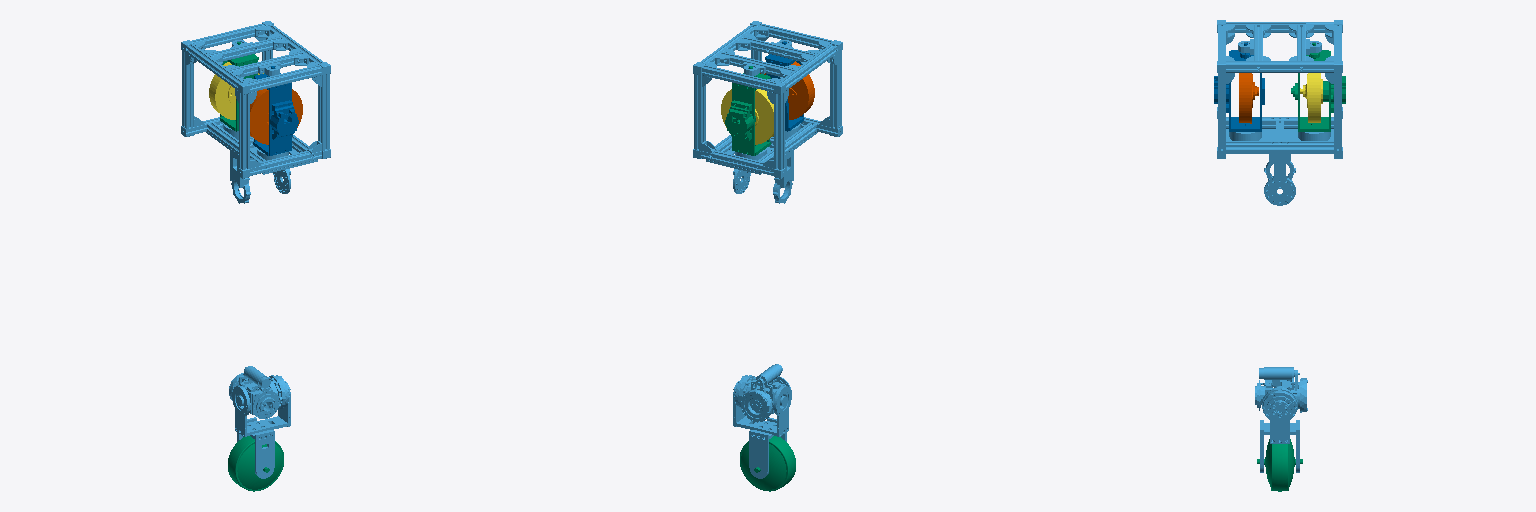
--- What the picture shows (computed from the rendered views, not written in the file) ---
Views: 3 orthographic renders of the robot side by side, from view 1: azimuth 30°, elevation 25°; view 2: azimuth 150°, elevation 25°; view 3: azimuth 270°, elevation 25°.
Model wheeled_inverted_pendulum with 11 links and 10 joints (5 revolute, 3 continuous, 2 fixed), rooted at cmg, posed every joint at zero.
Links seen in each view (by area): view 1: frame, ankle_link, Right_gimbal, wheel_link, Right_flywheel, Left_flywheel; view 2: frame, ankle_link, Left_gimbal, wheel_link, Left_flywheel, Right_flywheel; view 3: frame, ankle_link, wheel_link, Left_gimbal, Right_gimbal, Left_flywheel, Right_flywheel.
Boxes of the visible links, bbox=[...] form: frame: bbox=[181, 21, 330, 203]; ankle_link: bbox=[229, 366, 290, 478]; Right_gimbal: bbox=[253, 66, 298, 155]; wheel_link: bbox=[228, 436, 283, 491]; Right_flywheel: bbox=[250, 89, 302, 144]; Left_flywheel: bbox=[209, 62, 263, 119]; frame: bbox=[693, 21, 842, 203]; ankle_link: bbox=[733, 364, 791, 478]; Left_gimbal: bbox=[725, 66, 770, 155]; wheel_link: bbox=[740, 436, 795, 491]; Left_flywheel: bbox=[721, 89, 773, 144]; Right_flywheel: bbox=[760, 61, 814, 119]; frame: bbox=[1217, 20, 1342, 205]; ankle_link: bbox=[1255, 367, 1307, 472]; wheel_link: bbox=[1257, 439, 1302, 491]; Left_gimbal: bbox=[1291, 43, 1345, 131]; Right_gimbal: bbox=[1214, 43, 1264, 131]; Left_flywheel: bbox=[1300, 73, 1322, 122]; Right_flywheel: bbox=[1239, 73, 1258, 123].
Size in the robot's own frame: 0.2442 by 0.3059 by 1.15 metres.
Meshes: 10 distinct files referenced, 7 mesh visuals loaded (7 binary STL); not drawn: 3 (reference not matched to a file when rendering).

The robot description file, URDF, robot "wheeled_inverted_pendulum":
<?xml version="1.0"?>

<robot name="wheeled_inverted_pendulum">

        <link name="cmg">		    
		</link>

        <joint name="cmg_joint" type="fixed">
		    <origin xyz="0 0 1.022142" rpy="0.0 0.0 0.0" /> 
		    <parent link="cmg"/>
		    <child link="frame"/>
		</joint> 

        <link name="frame">
            <visual>
                <origin xyz="0 0 0" rpy="1.5708 0.0 0"/> <!--xyz="0.0 0.0 0.0" rpy="0 0.0 0" -->
                <geometry>
                    <mesh filename="package://cmg_robot_description/meshes/cmg_link.STL" scale="0.001 0.001 0.001"/>         
                </geometry>
                <material name=""/>
            </visual>

            <collision>
                <origin xyz="0 0 0" rpy="1.5708 0.0 0.0"/>
                <geometry>
                    <mesh filename="package://cmg_robot_description/meshes/cmg_link.STL" scale="0.001 0.001 0.001"/>
                </geometry>
            </collision>

            <inertial>
                <mass value="2.84" /> <!--3.037-->
                <origin xyz="0 0 -0.05" rpy="1.5708 0.0 0"/>
                <inertia ixx="0.069831822" ixy="0.000002709"  ixz="0.001167158"  iyy="0.062838135"  iyz="0.000012214"  izz="0.037865996" />
            </inertial>
        </link>

<!-- ######################################################################################### -->

        <joint name="Left_gimbal_joint" type="revolute">
            <!-- <origin xyz="-0.000001 0.08 -0.0015" rpy="0 0 1.57"/> -->
            <origin xyz="0 0.08 0" rpy="0 0 0"/>
            <axis xyz="0 0 1" />
            <parent link="frame"/>
            <child link="Left_gimbal"/>            
            <limit effort="100" velocity="100" upper="1.57" lower="-1.57"/>
            <!-- <calibration falling="1.0"/> -->
            <joint_properties damping="0.0" friction="0.0"/>
            <mimic joint="Right_gimbal_joint" multiplier="-1.0"/>

        </joint>

<!-- ######################################################################################### -->

        <link name="Left_gimbal">
            <visual>
                <origin xyz="0.0 0.0 0.0" rpy="0 0.0 0"/> 
                <geometry>
                    <mesh filename="package://cmg_robot_description/meshes/left_gimbal_link.STL" scale="0.001 0.001 0.001"/>         
                </geometry>
                <material name=""/>
            </visual>
            <collision>
                <origin xyz="0 0 0" rpy="0 0.0 0.0"/>
                <geometry>
                    <mesh filename="package://cmg_robot_description/meshes/left_gimbal_link.STL" scale="0.001 0.001 0.001"/>        
                </geometry>
            </collision>
            <inertial>
                <mass value="1" /><!-- 1.095 -->
                <origin xyz="0 0 0" />
                <inertia ixx="0.003773117" ixy="0" ixz="0" iyy="0.003989672" iyz="0" izz="0.00061837"/>
            </inertial>
        </link>

<!-- ######################################################################################### -->

         <joint name="Left_flywheel_joint" type="continuous">
            <origin xyz="0 0 0" rpy="0 0 0"/>
            <axis xyz="0 1 0" />
            <parent link="Left_gimbal"/>
            <child link="Left_flywheel"/>
            <limit effort="100" velocity="1000"/>
            <joint_properties damping="0.0" friction="0.0"/>
            <mimic joint="Right_gimbal_joint" multiplier="-1.0"/>
        </joint>

<!-- ######################################################################################### -->

        <link name="Left_flywheel">
            <visual>
                <origin xyz="0 0 0" rpy="0 0 0" />
                <geometry>
                    <mesh filename="package://cmg_robot_description/meshes/left_flywheel_link.STL" scale="0.001 0.001 0.001" />
                </geometry>
                <material name=""/>
            </visual>

            <collision>
                <geometry>
                    <mesh filename="package://cmg_robot_description/meshes/left_flywheel_link.STL" scale="0.001 0.001 0.001" />
                </geometry>
            </collision>

            <inertial>
                <mass value="4" />
                <origin xyz="0 0 0" />
                <inertia ixx="0.005950" ixy="0" ixz="0" iyy="0.011299999" iyz="0" izz="0.005950"/>
            </inertial>
        </link>

<!-- ######################################################################################### -->

        <joint name="Right_gimbal_joint" type="revolute">            
            <origin xyz="0 -0.08 0" rpy="0 0 0"/>
            <axis xyz="0 0 1" />
            <parent link="frame"/>
            <child link="Right_gimbal"/>            
            <limit effort="100" velocity="100" upper="1.57" lower="-1.57"/>
            <joint_properties damping="0.0" friction="0"/>
        </joint>

<!-- ######################################################################################### -->

        <link name="Right_gimbal">
            <visual>
                <origin xyz="0.0 0.0 0.0" rpy="0 0.0 3.14"/> 
                <geometry>
                    <mesh filename="package://cmg_robot_description/meshes/right_gimbal_link.STL" scale="0.001 0.001 0.001"/>         
                </geometry>
                <material name=""/>
            </visual>
            <collision>
                <origin xyz="0 0 0" rpy="0 0.0 3.14"/>
                <geometry>
                    <mesh filename="package://cmg_robot_description/meshes/right_gimbal_link.STL" scale="0.001 0.001 0.001"/>        
                </geometry>
            </collision>
            <inertial>
                <mass value="1" />
                 <!-- 1.095 -->
                <origin xyz="0 0 0" />
                <inertia ixx="0.003773117" ixy="0" ixz="0" iyy="0.003989672" iyz="0" izz="0.00061837"/>
            </inertial>
        </link>

<!-- ######################################################################################### -->

        <joint name="Right_flywheel_joint" type="continuous">
            <origin xyz="0 0 0" rpy="0 0 0"/>
            <axis xyz="0 1 0" />
            <parent link="Right_gimbal"/>
            <child link="Right_flywheel"/>
            <limit effort="100" velocity="1000"/>
            <joint_properties damping="0.0" friction="0.0"/>
        </joint>

<!-- ######################################################################################### -->

        <link name="Right_flywheel">
            <visual>
                <origin xyz="0 0 0" rpy="3.14 0 0" />
                <geometry>
                    <mesh filename="package://cmg_robot_description/meshes/right_flywheel_link.STL" scale="0.001 0.001 0.001" />
                </geometry>
                <material name=""/>
            </visual>

            <collision>
                <origin xyz="0 0 0" rpy="3.14 0 0" />
                <geometry>
                    <mesh filename="package://cmg_robot_description/meshes/right_flywheel_link.STL" scale="0.001 0.001 0.001" />
                </geometry>
            </collision>

            <inertial>
                <mass value="4" />
                <origin xyz="0 0 0" />
                <inertia ixx="0.005950" ixy="0" ixz="0" iyy="0.011299999" iyz="0" izz="0.005950"/>
            </inertial>
        </link>
        
<!-- ######################################################################################### -->
<!-- -0.220996 -->
        <joint name="hip_roll_joint" type="fixed">
            <origin xyz="0 0 -0.2222" rpy="0 0 0"/>
            <parent link="frame"/>
            <child link="hip_link"/>
            <!-- <axis xyz="1 0 0"/>
            <limit effort="100" velocity="1000" upper="0.785" lower="-0.785"/>
            <joint_properties damping="1.0" friction="1.0"/> -->
        </joint>

        <link name="hip_link">
            <visual>
                <origin xyz="-0.042455 0 0" rpy="3.14 0 0"/> 
                <geometry>
                    <mesh filename="package://cmg_robot_description/meshes/hip_link.STL" scale="0.001 0.001 0.001"/>         
                </geometry>
                <material name=""/>
            </visual>

            <collision>
                <origin xyz="-0.042455 0 0" rpy="3.14 0 0"/>
                <geometry>
                    <!-- <box size = "  0.127 0.168778 0.958442 "/>                     -->
                    <mesh filename="package://cmg_robot_description/meshes/hip_link.STL" scale="0.001 0.001 0.001"/>
                </geometry>
            </collision>

            <inertial>
                <mass value="3.325" /> 
                <origin xyz="0.0 0.0 0.0" rpy="3.14 0.0 0"/>
                <inertia ixx="0.005616834" ixy="0.00038757"  ixz="-0.000670089"  iyy="0.006407443"  iyz="-0.000643705" izz="0.006621237" />
            </inertial>
        </link>

<!-- ######################################################################################### -->

        <joint name="hip_pitch_joint" type="revolute">
		    <!-- <origin xyz="0 -0.0045 -0.451221" rpy="0.0 0.0 0.0" />  -->
		    <origin xyz="0 0 0" rpy="0.0 0 0.0" />
            <!-- -0.8  -->
            <axis xyz="0 1 0"/>
		    <parent link="hip_link"/>
		    <child link="hip_to_knee_link" />
            <limit effort="100" velocity="1000" upper="0" lower="0"/>
            <joint_properties damping="1.0" friction="1.0"/>
		</joint> 

        <link name="hip_to_knee_link">
            <visual>
                <origin xyz="0.0 0.0665 0" rpy="3.14 0 0"/> 
                <geometry>
                    <mesh filename="package://cmg_robot_description/meshes/hip_to_knee_link.STL" scale="0.001 0.001 0.001"/>         
                </geometry>
                <material name=""/>
                    
            </visual>

            <collision>
                <origin xyz="0 0.0665 0.0" rpy="3.14 0 0"/>
                <geometry>
                    <!-- <box size = "  0.127 0.168778 0.958442 "/>                     -->
                    <mesh filename="package://cmg_robot_description/meshes/hip_to_knee_link.STL" scale="0.001 0.001 0.001"/>
                </geometry>
            </collision>

            <inertial>
                <mass value="1.739" /> 
                <origin xyz="0.0 0 -0.14958" rpy="3.14 0.0 0"/>
                <inertia ixx="0.008595913" ixy="0.000104152"  ixz="0.000298503"  iyy="0.007917693"  iyz="-0.000246913" izz="0.002944951" />
            </inertial>
        </link> 
<!-- ######################################################################################### -->

        <joint name="knee_joint" type="revolute">
		    <origin xyz="0 0 -0.28" rpy="0.0 0 0.0" /> 
            <!-- 1.5 -->
            <axis xyz="0 1 0"/>
		    <parent link="hip_to_knee_link"/>
		    <child link="knee_ankle_link" />
            <limit effort="100" velocity="1000" upper="0" lower="0"/>
            <joint_properties damping="1.0" friction="1.0"/>
		</joint> 

        <link name="knee_ankle_link">
            <visual>
                <origin xyz="0.000045 -0.059 0" rpy="3.14 0 0"/> 
                <geometry>
                    <mesh filename="package://cmg_robot_description/meshes/knee_to_ankle_pitch_link.STL" scale="0.001 0.001 0.001"/>         
                </geometry>
                <material name=""/>
                    
            </visual>

            <collision>
                <origin xyz="0.000045 -0.059 0" rpy="3.14 0 0"/>
                <geometry>
                    <!-- <box size = "  0.127 0.168778 0.958442 "/>                     -->
                    <mesh filename="package://cmg_robot_description/meshes/knee_to_ankle_pitch_link.STL" scale="0.001 0.001 0.001"/>
                </geometry>
            </collision>

            <inertial>
                <mass value="1.416" /> 
                <origin xyz="0.0 0 -0.12016" rpy="3.14 0.0 0"/>
                <inertia ixx="0.010192583" ixy="0.000128782"  ixz="0.000780769"  iyy="0.009599672"  iyz="-0.000476197" izz="0.002390603" />
            </inertial>
        </link> 
<!-- ######################################################################################### -->

        <joint name="ankle_pitch_joint" type="revolute">
		    <origin xyz="0 0 -0.279942" rpy="0.0 0.0 0.0" /> 
            <!-- -0.7 -->
            <axis xyz="0 1 0"/>
		    <parent link="knee_ankle_link"/>
		    <child link="ankle_link" />
            <limit effort="100" velocity="1000" upper="0" lower="0"/>
            <joint_properties damping="1.0" friction="1.0"/>
		</joint> 

        <link name="ankle_link">
            <visual>
                <origin xyz="0.0 0.0 0.0" rpy="0 0 0"/> 
                <geometry>
                    <mesh filename="package://cmg_robot_description/meshes/ankle_link.STL" scale="0.001 0.001 0.001"/>         
                </geometry>
                <material name=""/>
                    
            </visual>

            <collision>
                <origin xyz="0 0 0" rpy="0 0 0"/>
                <geometry>
                    <!-- <box size = "  0.127 0.168778 0.958442 "/>                     -->
                    <mesh filename="package://cmg_robot_description/meshes/ankle_link.STL" scale="0.001 0.001 0.001"/>
                </geometry>
            </collision>

            <inertial>
                <mass value="2.786" /> 
                <origin xyz="0.0 0.0 0.227234" rpy="0 0.0 0"/>
                <inertia ixx="0.006981371" ixy="0.000264258"  ixz="0.000196616"  iyy="0.007514491"  iyz="0.000229715" izz="0.005584527" />
            </inertial>
        </link> 


<!-- ######################################################################################### -->

        <joint name="wheel_joint" type="continuous">
		    <!-- <origin xyz="0 -0.0045 -0.451221" rpy="0.0 0.0 0.0" />  -->
		    <origin xyz="0 0 -0.171" rpy="0.0 0.0 0.0" /> 
            <axis xyz="0 1 0"/>
		    <parent link="ankle_link"/>
		    <child link="wheel_link" />
            <limit effort="100" velocity="1000"/>
            <joint_properties damping="1.0" friction="1.0"/>
		</joint>

         <link name="wheel_link">
            <visual>
                <origin xyz="0.0 0.0 -0.0" rpy="0 0.0 0"/> 
                <geometry>
                    <mesh filename="package://cmg_robot_description/meshes/wheel_link.STL" scale="0.001 0.001 0.001"/>         
                </geometry>
                <material name=""/>
            </visual>

            <collision>                
                <origin xyz="0 0 -0.0" rpy="0 0.0 0"/>
                <geometry>
                    <mesh filename="package://cmg_robot_description/meshes/wheel_link.STL" scale="0.001 0.001 0.001"/>                 
                </geometry>
            </collision>

            <inertial>
                <mass value="2.292" />
                <origin xyz="0 0 -0.0" />
                <inertia ixx="0.002997277" ixy="0.0" ixz="0.0" iyy="0.004806909" iyz="0.0" izz="0.002997301"/>
            </inertial>
        </link> 

<!-- ######################################################################################### -->

        <gazebo reference="frame">
            <mu1>1.0</mu1>
            <mu2>1.0</mu2> 
            <kp>1e+13</kp>
            <kd>1.0</kd>
            <maxVel>0.001</maxVel>
            <minDepth>0.00000000001</minDepth>
            <gravity>1</gravity>
            <material>Gazebo/Grey</material>
            <!-- <selfCollide>true</selfCollide> -->
        </gazebo>

        <gazebo reference="Left_gimbal">
            <mu1>1.0</mu1>
            <mu2>1.0</mu2> 
            <kp>1e+13</kp>
            <kd>1.0</kd>
            <maxVel>0.001</maxVel>
            <minDepth>0.00000000001</minDepth>
            <gravity>1</gravity>
            <material>Gazebo/Grey</material>
            <selfCollide>true</selfCollide>
        </gazebo>

        <gazebo reference="Left_flywheel">
            <mu1>1.0</mu1>
            <mu2>1.0</mu2> 
            <kp>1e+13</kp>
            <kd>1.0</kd>
            <maxVel>0.001</maxVel>
            <minDepth>0.00000000001</minDepth>
            <gravity>1</gravity>
            <material>Gazebo/White</material>
        </gazebo>


        <gazebo reference="Right_gimbal">
            <mu1>1.0</mu1>
            <mu2>1.0</mu2> 
            <kp>1e+13</kp>
            <kd>1.0</kd>
            <maxVel>0.001</maxVel>
            <minDepth>0.00000000001</minDepth>
            <gravity>1</gravity>
            <material>Gazebo/Grey</material>
            <selfCollide>true</selfCollide>
        </gazebo>

        <gazebo reference="Right_flywheel">
            <mu1>1.0</mu1>
            <mu2>1.0</mu2> 
            <kp>1e+13</kp>
            <kd>1.0</kd>
            <maxVel>0.001</maxVel>
            <minDepth>0.00000000001</minDepth>
            <gravity>1</gravity>
            <material>Gazebo/White</material>
        </gazebo>


<!-- ######################################################################################### -->

        <gazebo reference="hip_link">
            <mu1>1.0</mu1>
            <mu2>1.0</mu2> 
            <kp>1e+13</kp>
            <kd>1.0</kd>
            <maxVel>0.001</maxVel>
            <minDepth>0.00000000001</minDepth>
            <gravity>1</gravity>
            <material>Gazebo/Grey</material>
        </gazebo>

        <gazebo reference="hip_to_knee_link">
            <mu1>1.0</mu1>
            <mu2>1.0</mu2> 
            <kp>1e+13</kp>
            <kd>1.0</kd>
            <maxVel>0.001</maxVel>
            <minDepth>0.00000000001</minDepth>
            <gravity>1</gravity>
            <material>Gazebo/Grey</material>
        </gazebo>

        <gazebo reference="knee_ankle_link">
            <mu1>1.0</mu1>
            <mu2>1.0</mu2> 
            <kp>1e+13</kp>
            <kd>1.0</kd>
            <maxVel>0.001</maxVel>
            <minDepth>0.00000000001</minDepth>
            <gravity>1</gravity>
            <material>Gazebo/Grey</material>
        </gazebo>

        <gazebo reference="ankle_link">
            <mu1>1.0</mu1>
            <mu2>1.0</mu2> 
            <kp>1e+13</kp>
            <kd>1.0</kd>
            <maxVel>0.001</maxVel>
            <minDepth>0.00000000001</minDepth>
            <gravity>1</gravity>
            <material>Gazebo/Grey</material>
        </gazebo>

        <gazebo reference="wheel_link">
            <collision name="wheel_collision">
                <surface>
                    <friction>
                        <torsional>
                            <coefficient>1</coefficient>
                            <use_patch_radius>true</use_patch_radius>
                            <patch_radius>0.02</patch_radius>
                        </torsional>
                    </friction>
                </surface>
            </collision>
            <mu1>1.0</mu1>
            <mu2>1.0</mu2> 
            <kp>1e+13</kp>
            <kd>1.0</kd>
            <maxVel>0.001</maxVel>
            <minDepth>0.00000000001</minDepth>
            <gravity>1</gravity>
            <material>Gazebo/White</material>
        </gazebo>


<!-- ######################################################################################### -->

        <gazebo>
            <plugin name="gazebo_ros_control" filename="libgazebo_ros_control.so">
                <controlPeriod>0.001</controlPeriod>
                <robotNamespace>/wheeled_inverted_pendulum</robotNamespace>
                <!-- <jointName> Right_gimbal_joint, Left_gimbal_joint, Left_flywheel_joint, Right_flywheel_joint, hip_roll_joint, hip_pitch_joint, knee_joint, ankle_pitch_joint, ankle_roll_joint, wheel_joint </jointName> -->
                <robotSimType>gazebo_ros_control/DefaultRobotHWSim</robotSimType>
                <legacyModeNS>true</legacyModeNS>
            </plugin>
        </gazebo>

        <gazebo>
            <plugin name="mimic_control" filename="libroboticsgroup_upatras_gazebo_mimic_joint_plugin.so">
                <joint>Right_gimbal_joint</joint>
                <mimicJoint>Left_gimbal_joint</mimicJoint>
                <multiplier>-1.0</multiplier>
                <!-- <hasPID>/gazebo_ros_control/pid_gains/Left_gimbal_joint</hasPID> -->
                <!-- /gazebo_ros_control/pid_gains/Left_gimbal_joint -->
            </plugin>
        </gazebo>

        <transmission name="Left_flywheel_trans">
            <type>transmission_interface/SimpleTransmission</type>
            <joint name="Left_flywheel_joint" >
                <hardwareInterface>hardware_interface/VelocityJointInterface</hardwareInterface>
            </joint>
            <actuator name="Left_flywheel_motor">
                <hardwareInterface>hardware_interface/VelocityJointInterface</hardwareInterface>
                <mechanicalReduction>1</mechanicalReduction>
            </actuator>
        </transmission>

        <!-- <transmission name="Left_gimbal_trans">
            <type>transmission_interface/SimpleTransmission</type>
            <joint name="Left_gimbal_joint" >
                <hardwareInterface>hardware_interface/EffortJointInterface</hardwareInterface>
            </joint>
            <actuator name="Left_gimbal_motor">
                <hardwareInterface>hardware_interface/EffortJointInterface</hardwareInterface>
                <mechanicalReduction>1</mechanicalReduction>
            </actuator>
        </transmission> -->


        <transmission name="Right_flywheel_trans">
            <type>transmission_interface/SimpleTransmission</type>
            <joint name="Right_flywheel_joint" >
                <hardwareInterface>hardware_interface/VelocityJointInterface</hardwareInterface>
            </joint>
            <actuator name="Right_flywheel_motor">
                <hardwareInterface>hardware_interface/VelocityJointInterface</hardwareInterface>
                <mechanicalReduction>1</mechanicalReduction>
            </actuator>
        </transmission>

        <transmission name="Right_gimbal_trans">
            <type>transmission_interface/SimpleTransmission</type>
            <joint name="Right_gimbal_joint" >
                <hardwareInterface>hardware_interface/EffortJointInterface</hardwareInterface>
            </joint>
            <actuator name="Right_gimbal_motor">
                <hardwareInterface>hardware_interface/EffortJointInterface</hardwareInterface>
                <mechanicalReduction>1</mechanicalReduction>
            </actuator>
        </transmission>

<!-- ######################################################################################### -->

        <!-- <transmission name="hip_roll_trans">
            <type>transmission_interface/SimpleTransmission</type>
            <joint name="hip_roll_joint" >
                <hardwareInterface>hardware_interface/PositionJointInterface</hardwareInterface>
            </joint>
            <actuator name="hip_roll_motor">
                <hardwareInterface>hardware_interface/PositionJointInterface</hardwareInterface>
                <mechanicalReduction>1</mechanicalReduction>
            </actuator>
        </transmission> -->

        <transmission name="hip_pitch_trans">
            <type>transmission_interface/SimpleTransmission</type>
            <joint name="hip_pitch_joint" >
                <hardwareInterface>hardware_interface/PositionJointInterface</hardwareInterface>
            </joint>
            <actuator name="hip_pitch_motor">
                <hardwareInterface>hardware_interface/PositionJointInterface</hardwareInterface>
                <mechanicalReduction>1</mechanicalReduction>
            </actuator>
        </transmission>


        <!-- <transmission name="knee_trans">
            <type>transmission_interface/SimpleTransmission</type>
            <joint name="knee_joint" >
                <hardwareInterface>hardware_interface/PositionJointInterface</hardwareInterface>
            </joint>
            <actuator name="knee_motor">
                <hardwareInterface>hardware_interface/PositionJointInterface</hardwareInterface>
                <mechanicalReduction>1</mechanicalReduction>
            </actuator>
        </transmission>

        <transmission name="ankle_pitch_trans">
            <type>transmission_interface/SimpleTransmission</type>
            <joint name="ankle_pitch_joint" >
                <hardwareInterface>hardware_interface/PositionJointInterface</hardwareInterface>
            </joint>
            <actuator name="ankle_pitch_motor">
                <hardwareInterface>hardware_interface/PositionJointInterface</hardwareInterface>
                <mechanicalReduction>1</mechanicalReduction>
            </actuator>
        </transmission> -->

        <!-- <transmission name="ankle_roll_trans">
            <type>transmission_interface/SimpleTransmission</type>
            <joint name="ankle_roll_joint" >
                <hardwareInterface>hardware_interface/PositionJointInterface</hardwareInterface>
            </joint>
            <actuator name="ankle_roll_motor">
                <hardwareInterface>hardware_interface/PositionJointInterface</hardwareInterface>
                <mechanicalReduction>1</mechanicalReduction>
            </actuator>
        </transmission> -->

        <transmission name="wheel_trans">
            <type>transmission_interface/SimpleTransmission</type>
            <joint name="wheel_joint" >
                <hardwareInterface>hardware_interface/EffortJointInterface</hardwareInterface>
            </joint>
            <actuator name="wheel_motor">
                <hardwareInterface>hardware_interface/EffortJointInterface</hardwareInterface>
                <mechanicalReduction>1</mechanicalReduction>
            </actuator>
        </transmission>

<!-- EffortJointInterface
PositionJointInterface
VelocityJointInterface -->

</robot>
